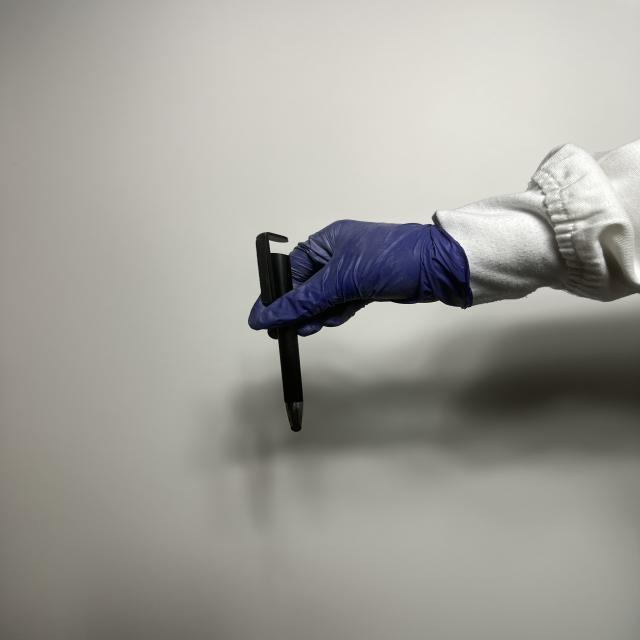gloves_contaminated: (249, 220, 471, 336)
